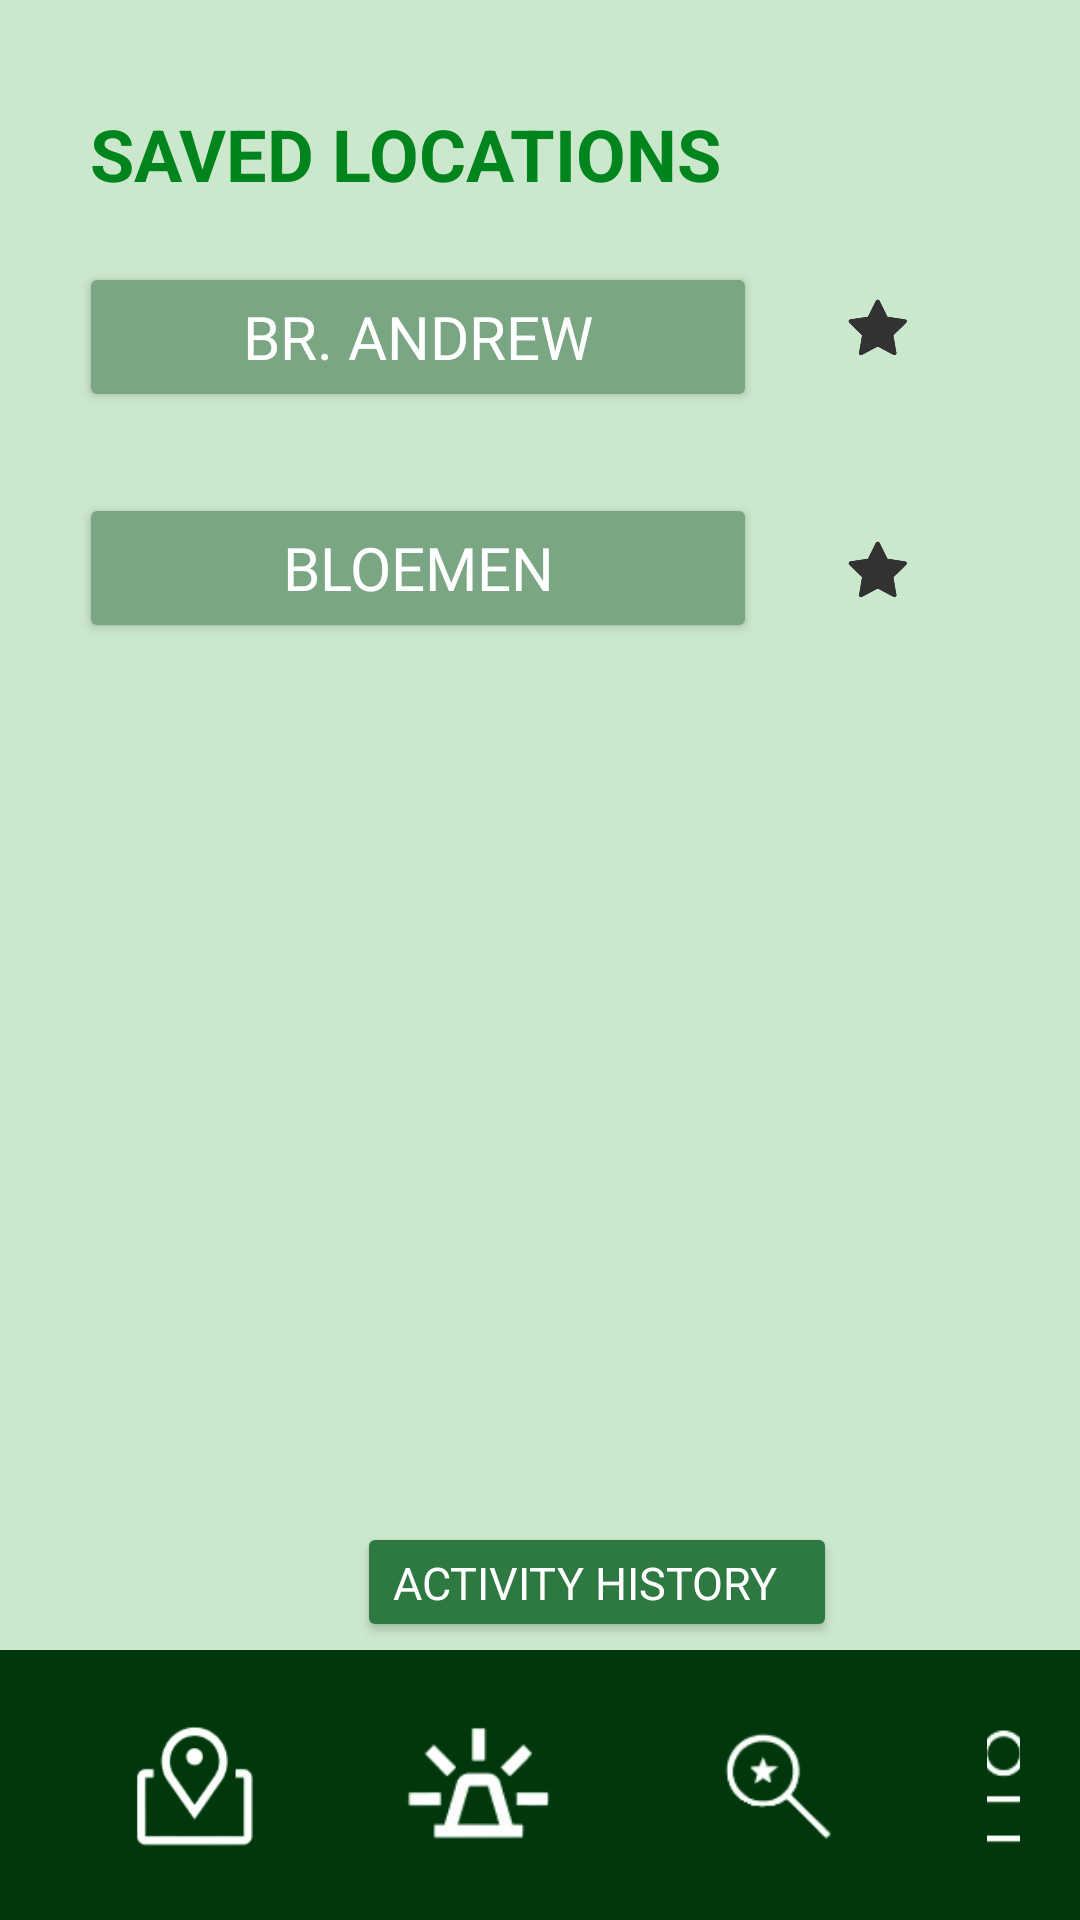

Screen size 1080px×1920px. Icon name, then its box in pixels as (x1, y1, x2, y2):
Campus Map: (137, 1727, 253, 1846)
Emergency: (408, 1728, 550, 1839)
Saved: (725, 1733, 831, 1839)
Star Button: (848, 299, 907, 355), (848, 541, 907, 597)
